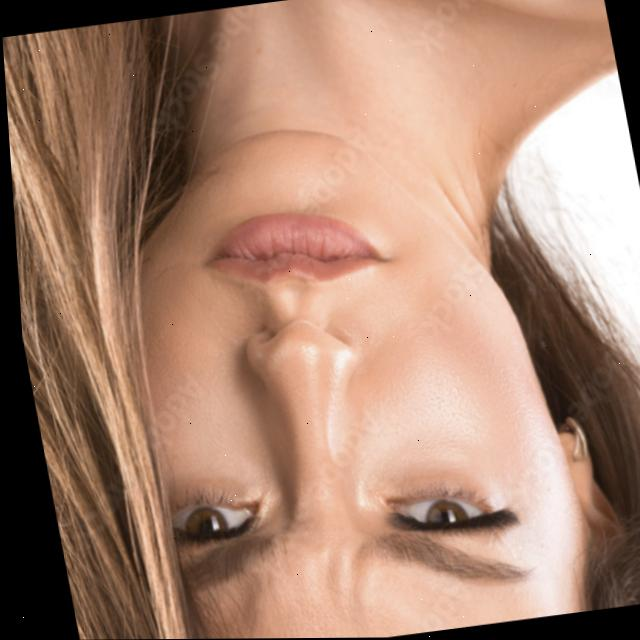angry: (38, 176, 585, 640)
